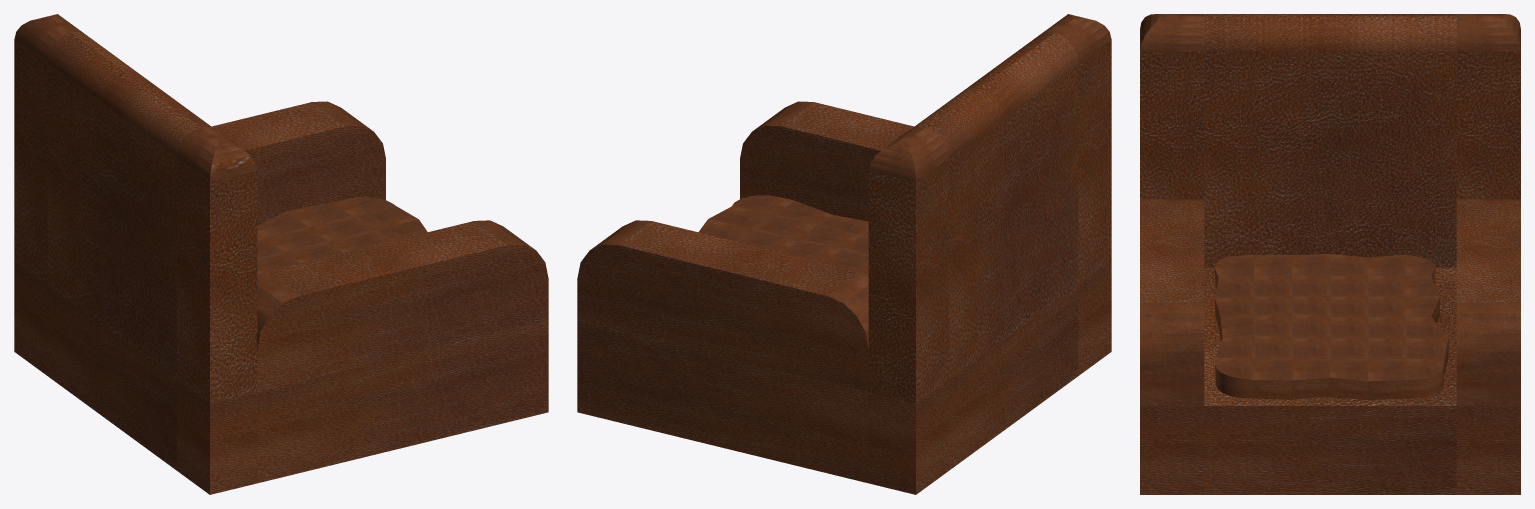
File: armchair.fbx
3 views of the same model, side by side, from view 1: azimuth 30°, elevation 25°; view 2: azimuth 150°, elevation 25°; view 3: azimuth 270°, elevation 25° (orthographic). The views are drawn at different scales.
Visible parts, largest first — view 1: armchairbody, armchaircushion; view 2: armchairbody, armchaircushion; view 3: armchairbody, armchaircushion.
Part boxes in pixels (<box>): armchairbody: <box>14,14,548,494</box>; armchaircushion: <box>257,197,427,275</box>; armchairbody: <box>577,14,1111,494</box>; armchaircushion: <box>698,195,868,275</box>; armchairbody: <box>1140,14,1520,494</box>; armchaircushion: <box>1214,254,1448,399</box>.
Size of the model in its own units: 300 by 286 by 300.
1 material, 1 textured.
